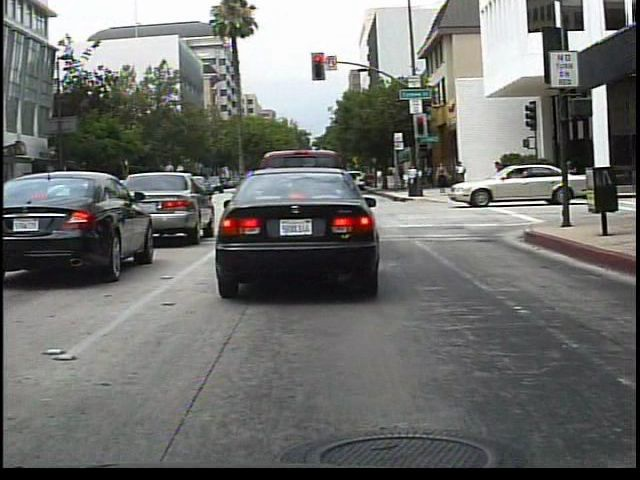person: (493, 156, 516, 200), (432, 158, 451, 195), (453, 160, 468, 186)
